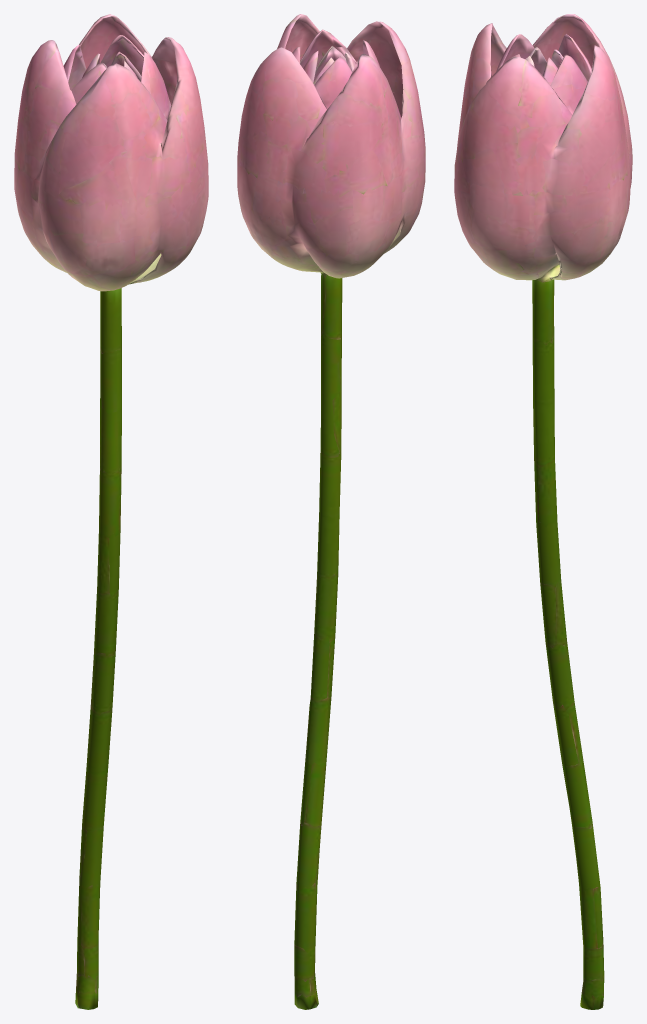
The model's file is tulip_pink.glb.
3 views of the same model, side by side, from view 1: azimuth 30°, elevation 25°; view 2: azimuth 150°, elevation 25°; view 3: azimuth 270°, elevation 25° (orthographic). The views are drawn at different scales.
Bounding box in the file's own units: 0.3168 × 1.9 × 0.3161.
Materials: 1 (1 with a texture image).
